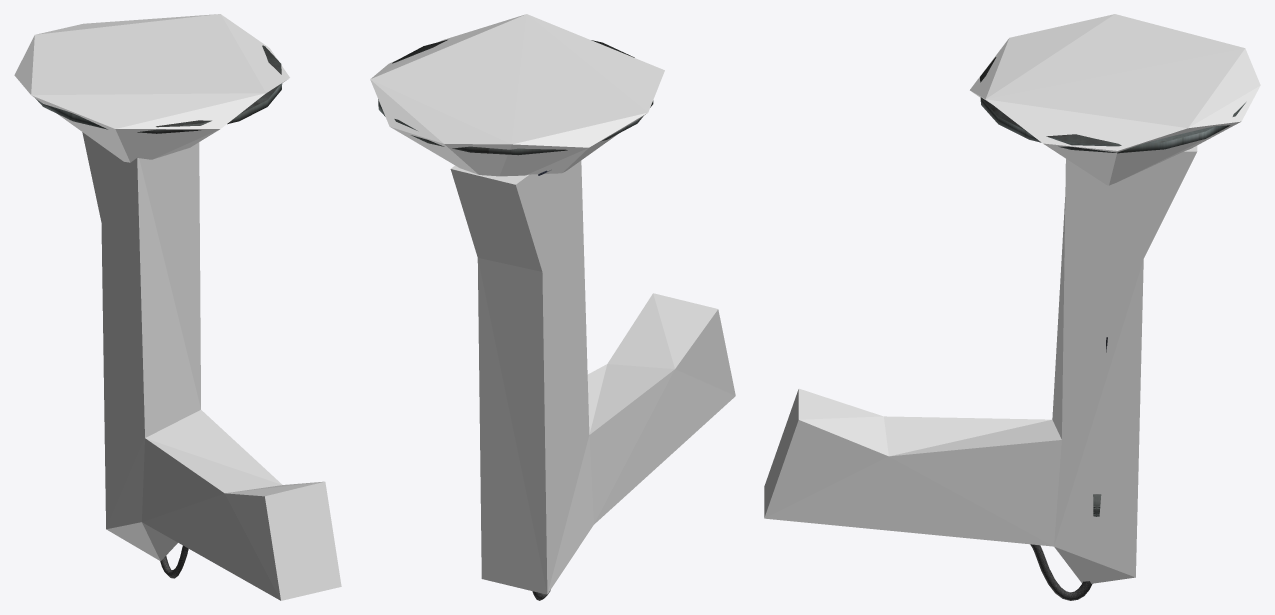
Rendered from LandingPadLoose.fbx.
3 views of the same model, side by side, from view 1: azimuth 30°, elevation 25°; view 2: azimuth 150°, elevation 25°; view 3: azimuth 270°, elevation 25° (orthographic). The views are drawn at different scales.
Parts seen in each view (by area): view 1: LandingGearColMesh, LandingGears.002; view 2: LandingGearColMesh, LandingGears.002; view 3: LandingGearColMesh, LandingGears.002.
Part boxes in pixels (x1,y1,x2,y2): LandingGearColMesh: [14, 14, 341, 600]; LandingGears.002: [35, 45, 282, 578]; LandingGearColMesh: [370, 14, 735, 594]; LandingGears.002: [378, 39, 653, 600]; LandingGearColMesh: [764, 14, 1260, 583]; LandingGears.002: [980, 57, 1245, 600].
Size of the model in its own units: 445 by 887 by 752.
